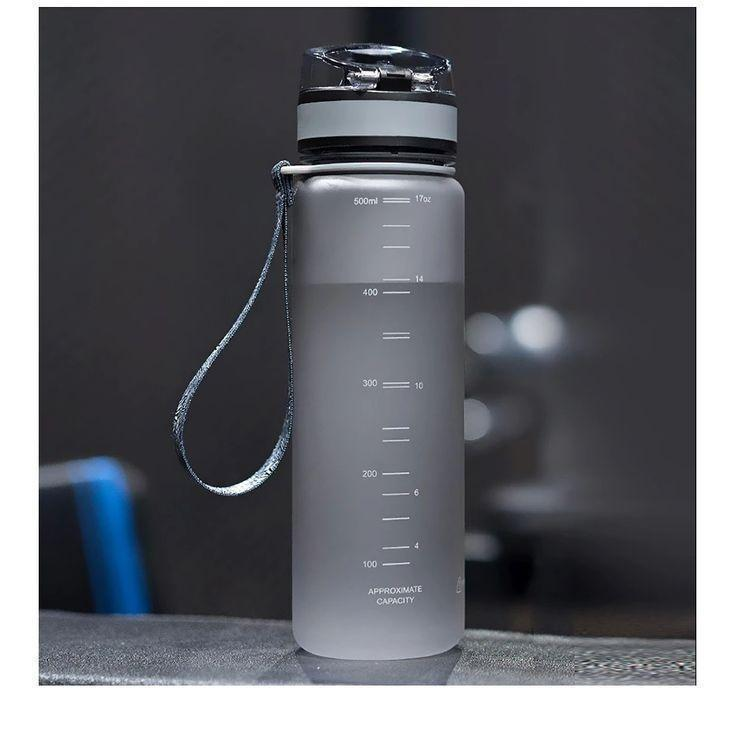gym bottle: (277, 35, 478, 663)
